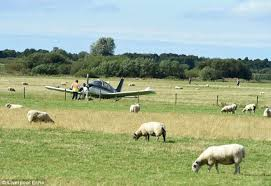sheep: (191, 143, 248, 176), (132, 120, 168, 145), (26, 108, 59, 128), (220, 101, 238, 116), (241, 101, 257, 114), (128, 102, 142, 114), (261, 106, 271, 118), (21, 80, 31, 87), (7, 86, 16, 92)
